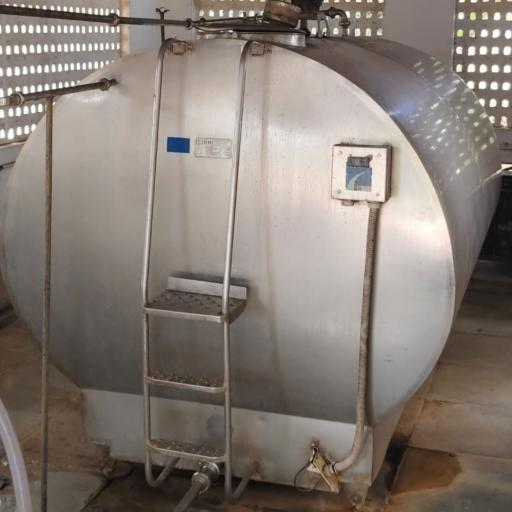silo: (0, 23, 503, 484)
